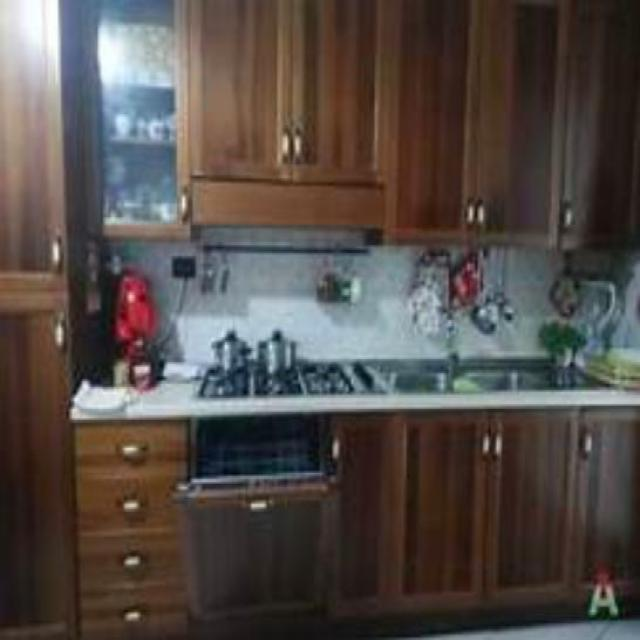dishwasher: (174, 418, 338, 638)
